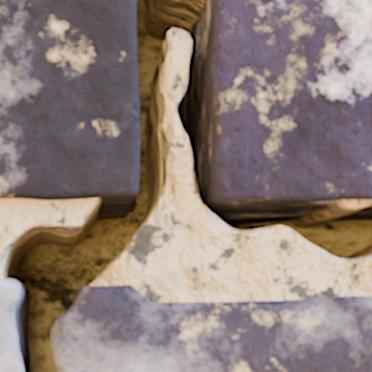brick: (210, 0, 371, 200), (0, 0, 138, 199)
broken_brick: (52, 284, 371, 371), (0, 281, 22, 371)
crack: (0, 0, 371, 371)
